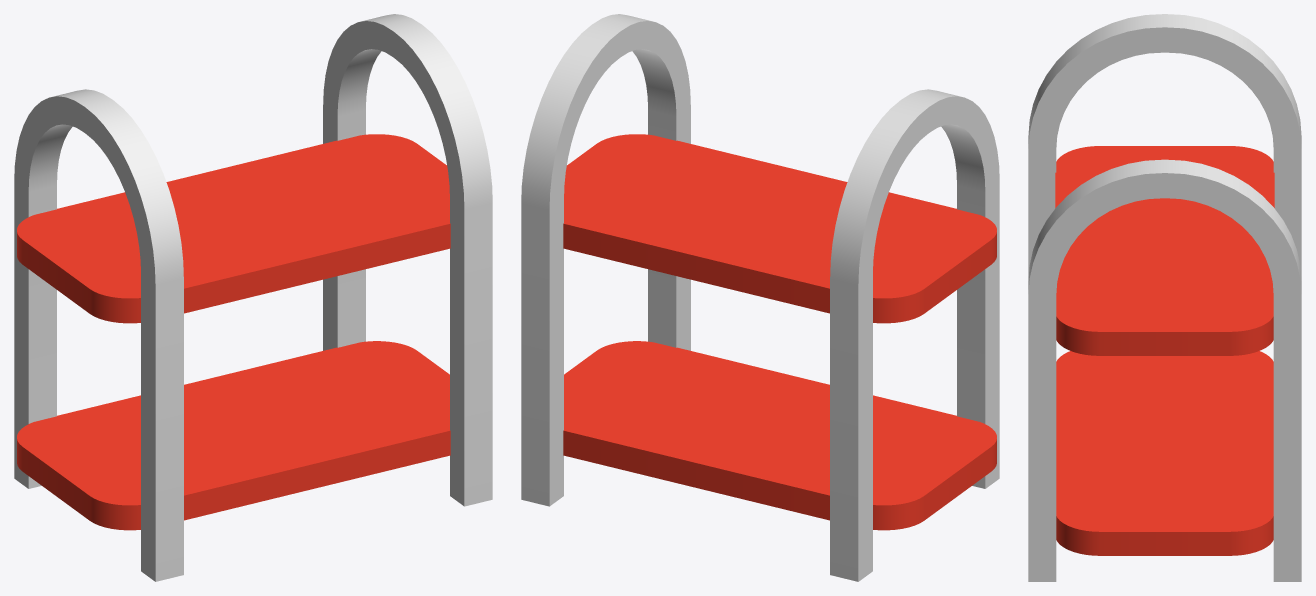
The model's file is Rack Red.fbx.
3 views of the same model, side by side, from view 1: azimuth 30°, elevation 25°; view 2: azimuth 150°, elevation 25°; view 3: azimuth 270°, elevation 25° (orthographic). The views are drawn at different scales.
Parts seen in each view (by area): view 1: Rack Red; view 2: Rack Red; view 3: Rack Red.
Part boxes in pixels (bbox=[...]): Rack Red: bbox=[14, 14, 492, 581]; Rack Red: bbox=[521, 14, 999, 581]; Rack Red: bbox=[1028, 14, 1301, 581].
Bounding box in the file's own units: 138 × 141 × 85.46.
